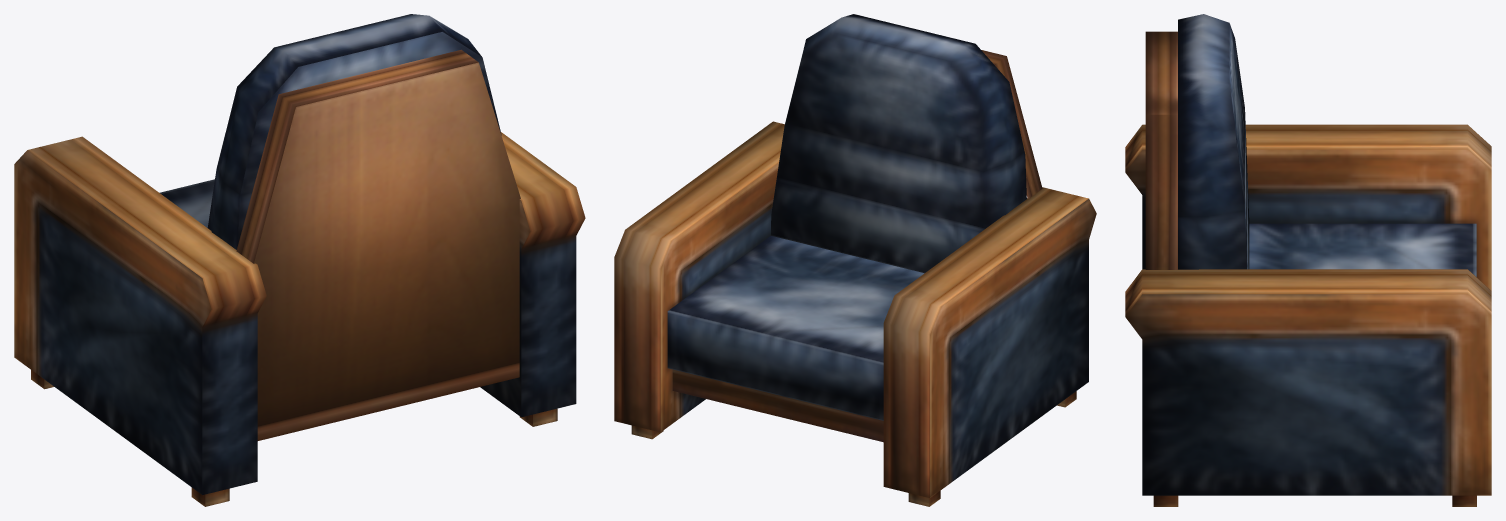
File: c_SWGchair05A_a.glb
3 views of the same model, side by side, from view 1: azimuth 30°, elevation 25°; view 2: azimuth 150°, elevation 25°; view 3: azimuth 270°, elevation 25° (orthographic). The views are drawn at different scales.
Visible parts, largest first — view 1: c_SWGchair05A_a; view 2: c_SWGchair05A_a; view 3: c_SWGchair05A_a.
Part boxes in pixels (x1,y1,x2,y2): c_SWGchair05A_a: (14,14,585,506); c_SWGchair05A_a: (614,14,1096,506); c_SWGchair05A_a: (1125,14,1491,506).
Size of the model in its own units: 0.9996 by 1.05 by 0.9136.
Materials: 1 (1 with a texture image).
